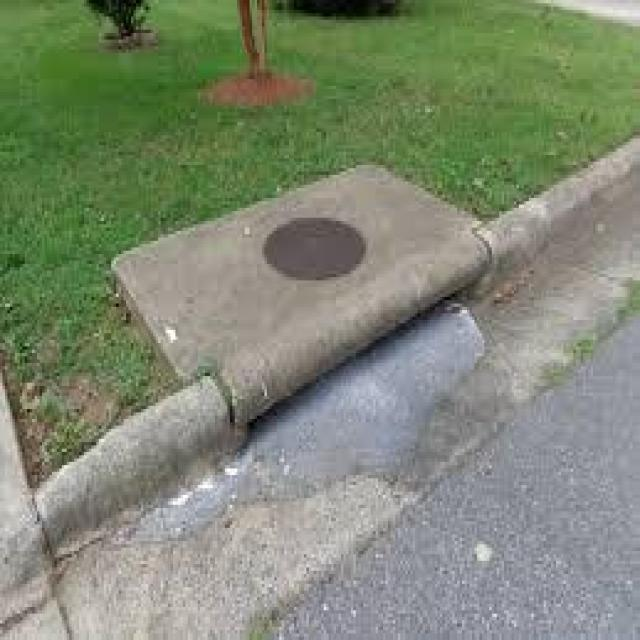curb: (8, 326, 320, 582), (341, 222, 478, 397), (495, 128, 634, 291)
